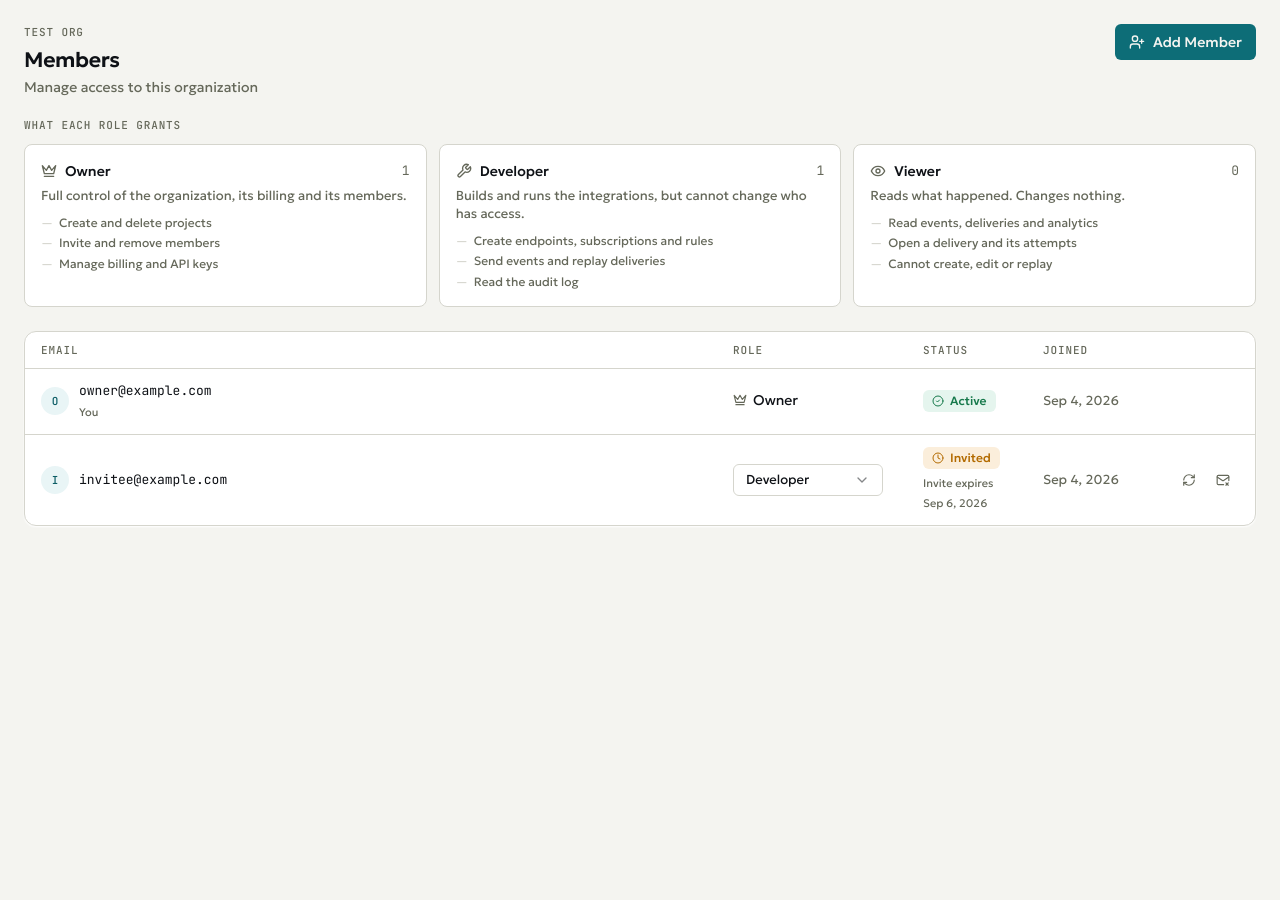
MembersPage › shows the fresh link after re-issuing, because nothing was emailed
Click the button named "Re-issue the invite for invitee@example.com": (1189, 480) x1=1173 y1=464 x2=1205 y2=496
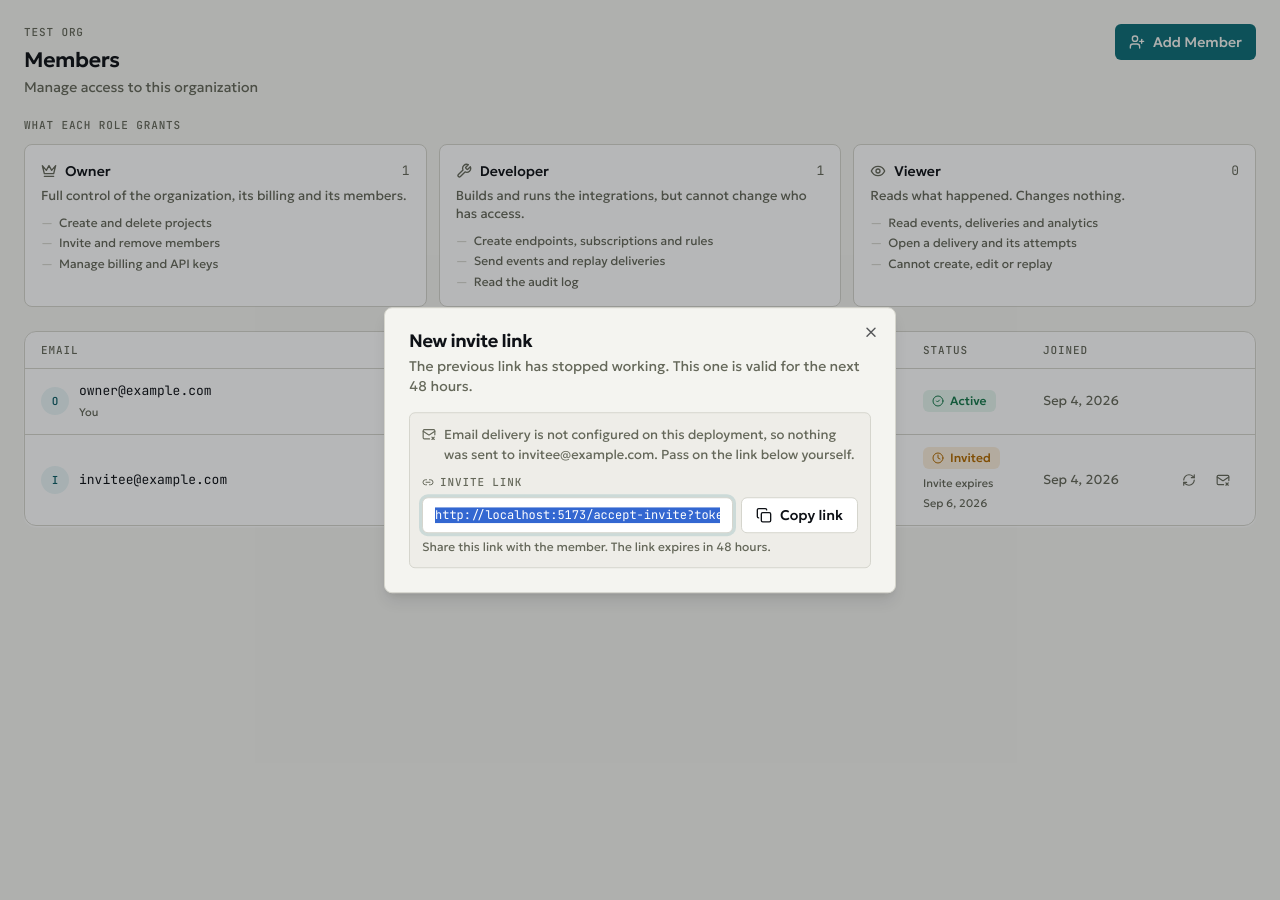
Result: the field showing "http://localhost:5173/accept-invite?token=fresh&orgId=org-1" is shown at x1=422 y1=497 x2=733 y2=533
Result: the text "Email delivery is not configured" is shown at x1=444 y1=426 x2=855 y2=463
